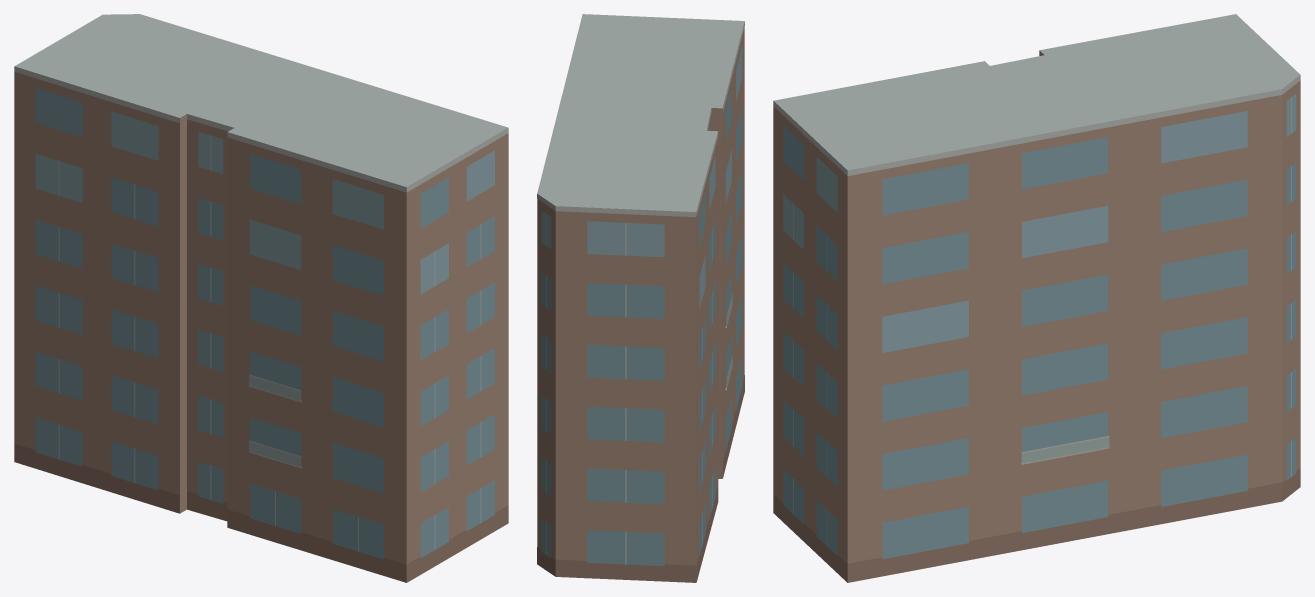
Rendered from survey-upis-32931289.glb.
3 views of the same model, side by side, from view 1: azimuth 30°, elevation 25°; view 2: azimuth 150°, elevation 25°; view 3: azimuth 270°, elevation 25° (orthographic). The views are drawn at different scales.
Visible parts, largest first — view 1: survey-upis-32931289.tmp; view 2: survey-upis-32931289.tmp; view 3: survey-upis-32931289.tmp.
Boxes of the visible parts, x1,y1,x2,y2 form: survey-upis-32931289.tmp: (14,14,508,582); survey-upis-32931289.tmp: (537,14,744,582); survey-upis-32931289.tmp: (773,14,1300,582).
Size of the model in its own units: 14.67 by 18 by 20.87.
